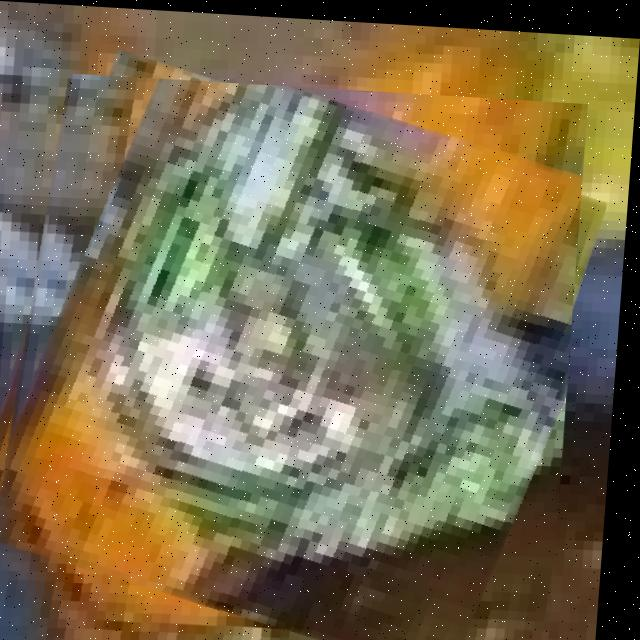litter: (0, 69, 589, 640)
